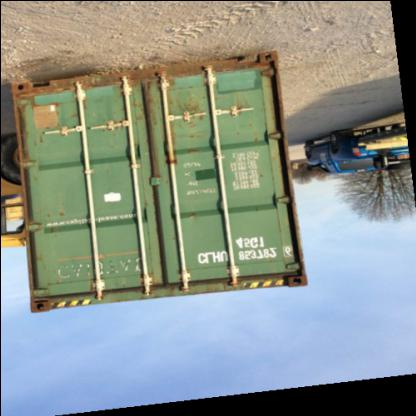Damage: (51, 253, 142, 283), (170, 84, 206, 138), (133, 79, 158, 132), (41, 199, 73, 229), (148, 266, 180, 296), (226, 96, 254, 126), (31, 294, 54, 310), (290, 268, 308, 286)
